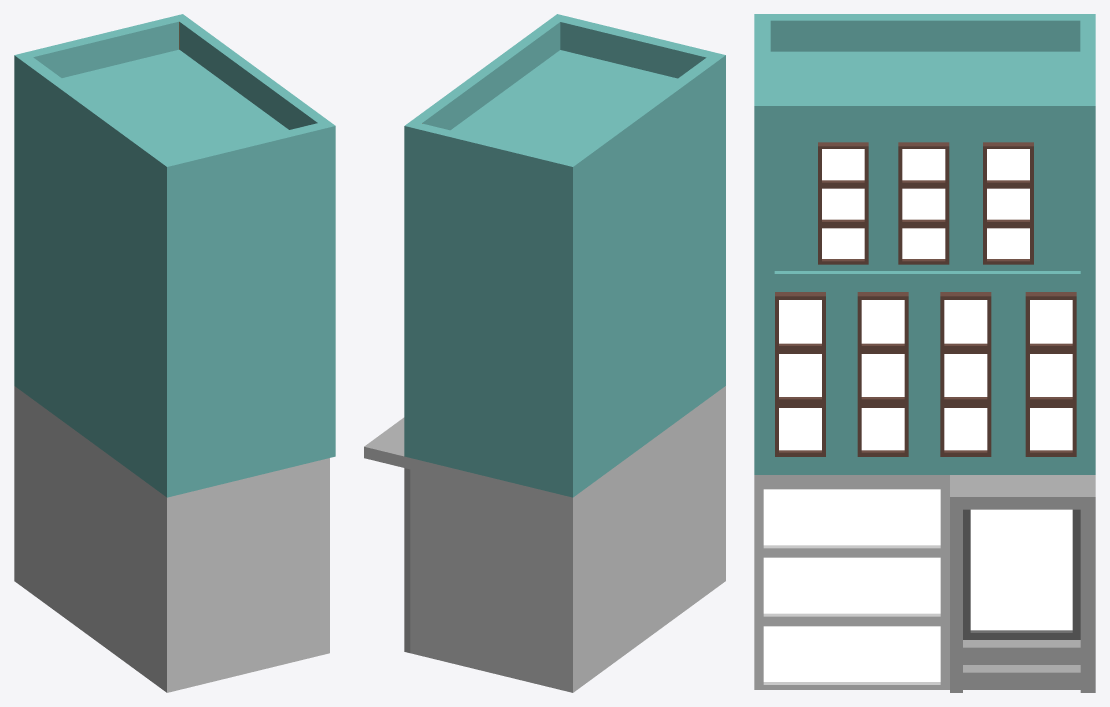
File: House 3.2.fbx
3 views of the same model, side by side, from view 1: azimuth 30°, elevation 25°; view 2: azimuth 150°, elevation 25°; view 3: azimuth 270°, elevation 25° (orthographic). The views are drawn at different scales.
Parts seen in each view (by area): view 1: House 3.003; view 2: House 3.003; view 3: House 3.003.
Boxes of the visible parts, x1,y1,x2,y2 form: House 3.003: (14, 14, 335, 692); House 3.003: (364, 14, 725, 692); House 3.003: (754, 14, 1095, 692).
Bounding box in the file's own units: 725 × 1743 × 919.
